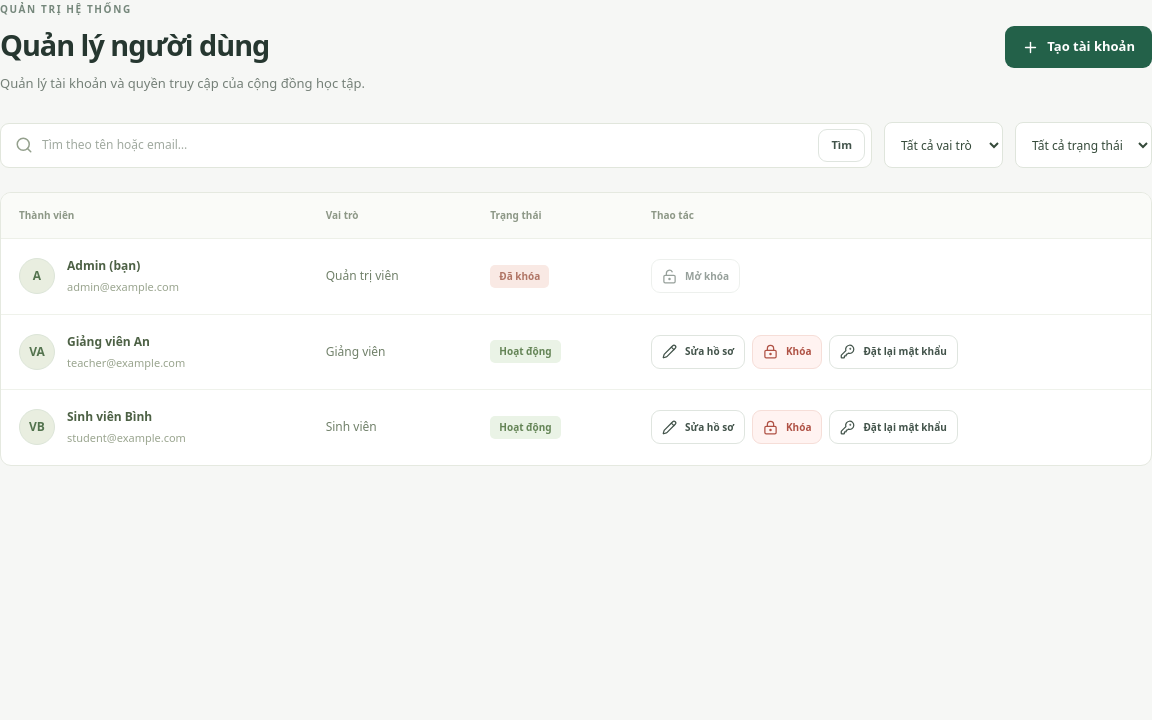
Test: shows reset actions only for students and teachers and submits the selected account
This screenshot has width=1152, height=720.
Step 1. Click the button "Đặt lại mật khẩu" in the row of "Giảng viên An" → {"x": 894, "y": 352}, box top-left (829, 335), bottom-right (958, 369)
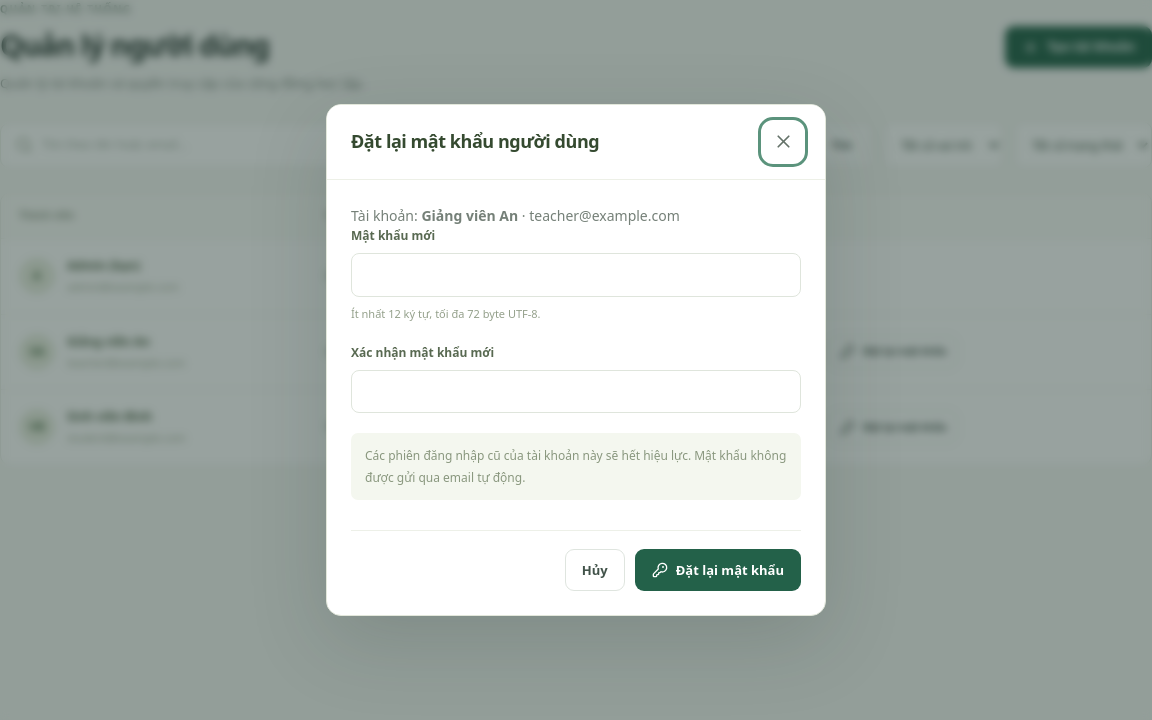
Step 2. Type "NewPasswordForTest123!" into the password field labelled "Mật khẩu mới" → {"x": 576, "y": 275}, box top-left (351, 254), bottom-right (801, 297)
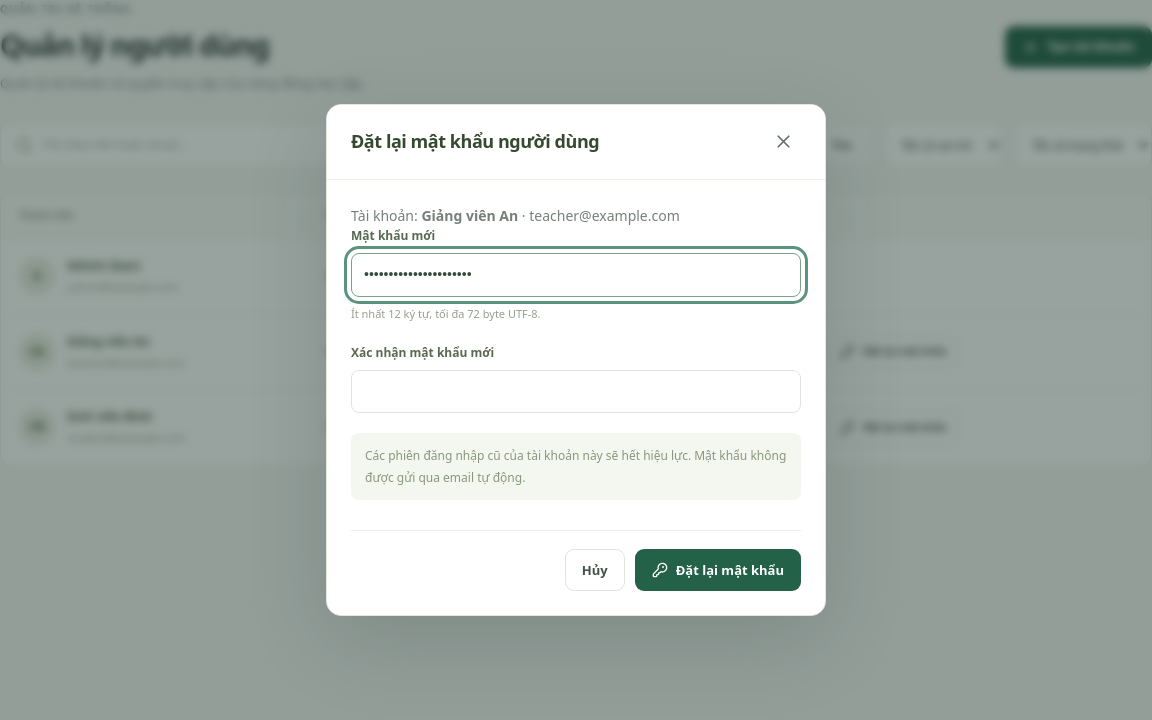
Step 3. Type "NewPasswordForTest123!" into the password field labelled "Xác nhận mật khẩu mới" → {"x": 576, "y": 391}, box top-left (351, 370), bottom-right (801, 413)
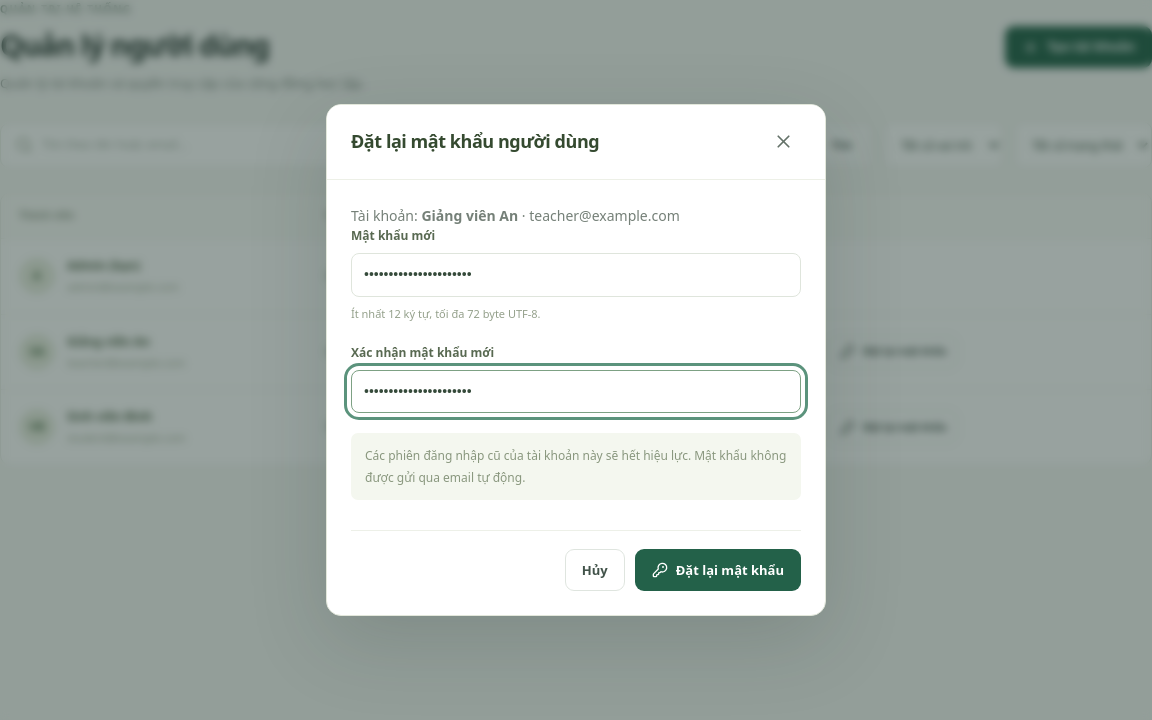
Now the dialog shows "Giảng viên An", box top-left (421, 206), bottom-right (518, 225)
Step 4. Click the submit button → {"x": 718, "y": 570}, box top-left (635, 549), bottom-right (801, 591)
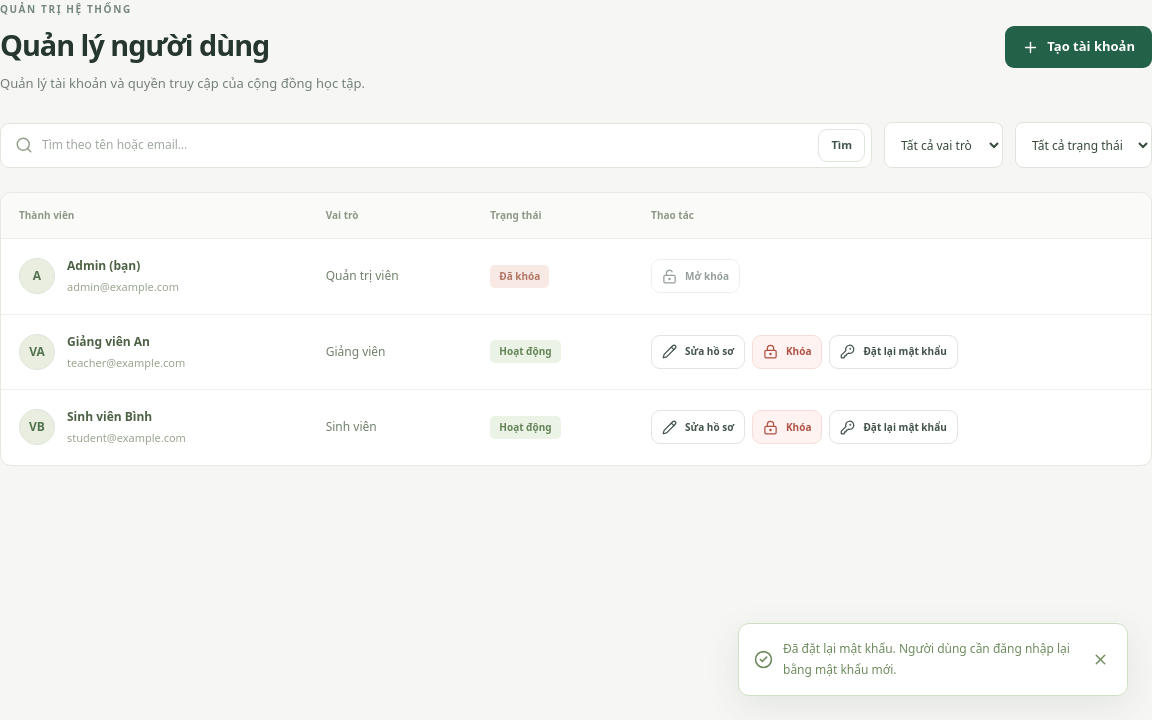
Now the dialog is gone
